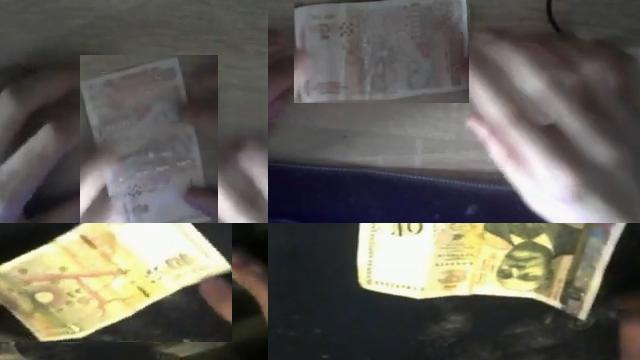10leva: (0, 223, 232, 342), (488, 223, 589, 292), (375, 223, 434, 250)
5leva: (80, 55, 215, 223), (294, 0, 469, 103)
